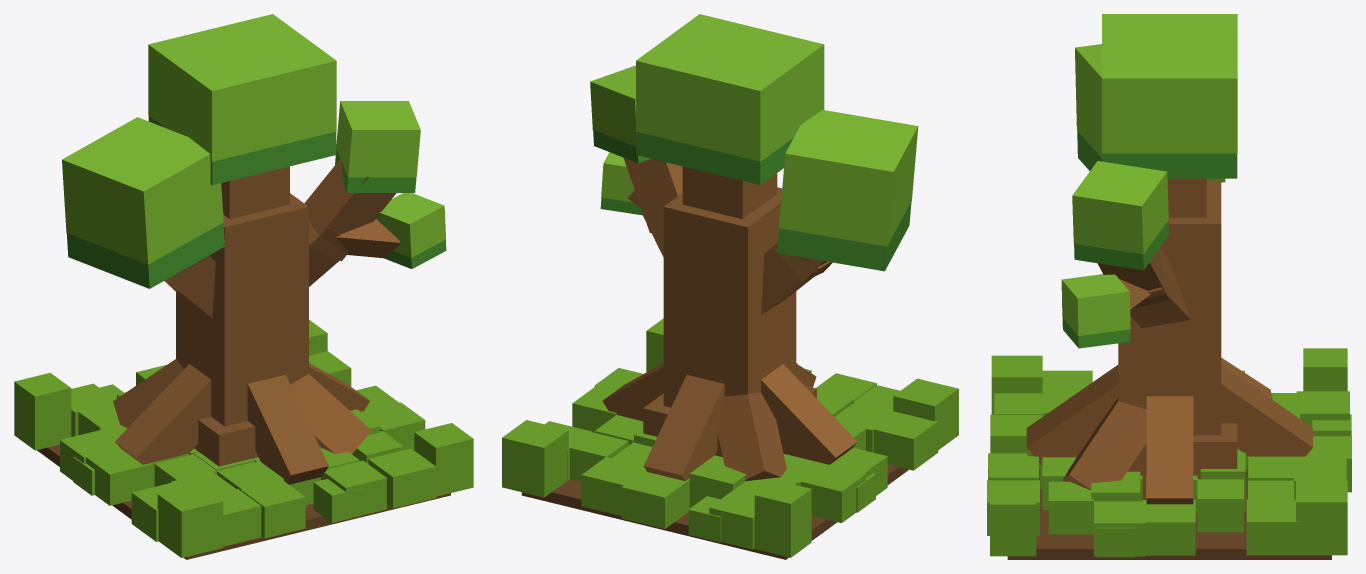
Rendered from Thornwood_ThornTree.glb.
The picture shows the model from 3 angles, left to right: view 1: azimuth 30°, elevation 25°; view 2: azimuth 150°, elevation 25°; view 3: azimuth 270°, elevation 25°; orthographic projection. The views are drawn at different scales.
Parts seen in each view (by area): view 1: Grass, Trunk, Leaves_Top, Leaves_L, Roots, Leaves_R, Branch_R, Branch_L, Soil; view 2: Grass, Trunk, Leaves_Top, Leaves_L, Roots, Leaves_R, Branch_R, Branch_L, Soil; view 3: Grass, Leaves_Top, Roots, Trunk, Leaves_R, Soil, Branch_R, Leaves_L.
Part boxes in pixels (x1,y1,x2,y2): Grass: (14,320,473,557); Trunk: (176,166,308,466); Leaves_Top: (148,14,336,185); Leaves_L: (62,117,224,288); Roots: (113,359,371,484); Leaves_R: (335,101,446,268); Branch_R: (304,158,399,286); Branch_L: (164,256,215,318); Soil: (37,444,450,559); Grass: (502,318,958,557); Trunk: (643,166,816,457); Leaves_Top: (636,14,824,185); Leaves_L: (777,110,918,271); Roots: (602,363,857,480); Leaves_R: (590,65,650,215); Branch_R: (623,157,682,256); Branch_L: (761,243,832,314); Soil: (521,464,908,559); Grass: (987,348,1351,557); Leaves_Top: (1102,14,1237,178); Roots: (1026,357,1312,504); Trunk: (1118,178,1237,499); Leaves_R: (1061,161,1168,348); Soil: (1007,469,1331,559); Branch_R: (1097,248,1190,327); Leaves_L: (1075,44,1225,182).
Bounding box in the file's own units: 1.66 × 2 × 1.49.
